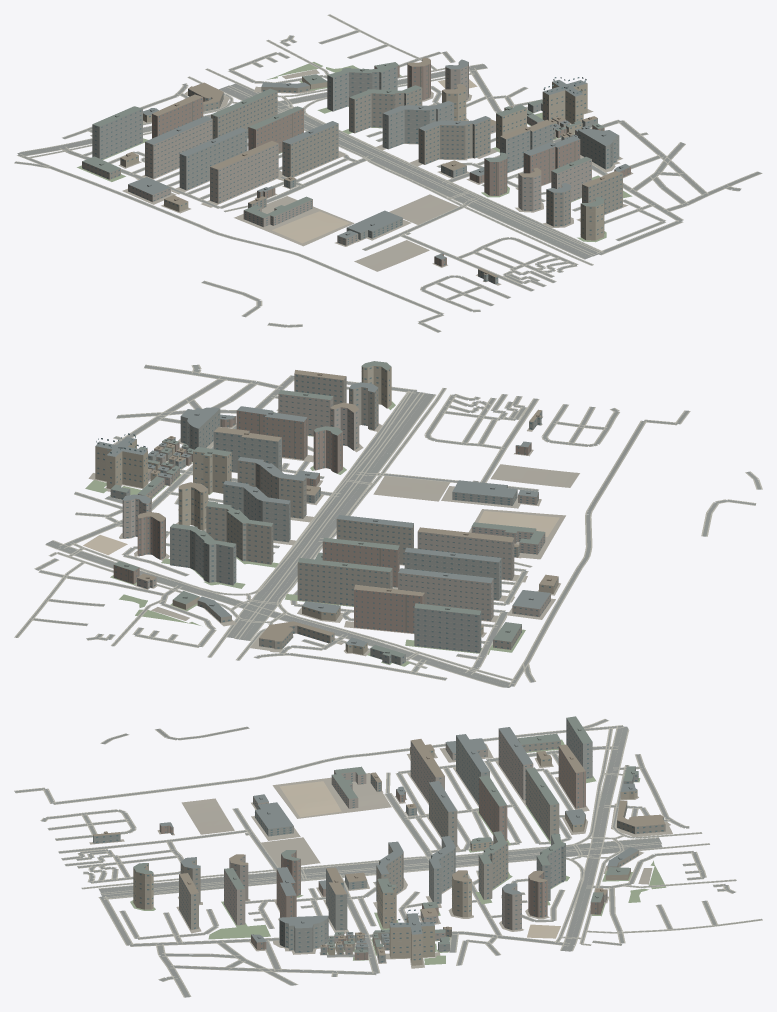
The picture shows the model from 3 angles, top to bottom: view 1: azimuth 30°, elevation 25°; view 2: azimuth 150°, elevation 25°; view 3: azimuth 270°, elevation 25°; orthographic projection. The views are drawn at different scales.
Parts seen in each view (by area): view 1: context-osm-buildings, context-osm-roads, context-osm-sidewalks, context-building-plinths; view 2: context-osm-buildings, context-osm-roads, context-osm-sidewalks, context-building-plinths; view 3: context-osm-buildings, context-osm-roads, context-osm-sidewalks, context-building-plinths.
Boxes of the visible parts, x1,y1,x2,y2 form: context-osm-buildings: (82, 57, 630, 284); context-osm-roads: (14, 14, 761, 332); context-osm-sidewalks: (14, 14, 762, 332); context-building-plinths: (77, 62, 633, 285); context-osm-buildings: (95, 361, 558, 665); context-osm-roads: (15, 364, 761, 687); context-osm-sidewalks: (14, 364, 762, 687); context-building-plinths: (83, 401, 579, 666); context-osm-buildings: (93, 716, 665, 965); context-osm-roads: (14, 719, 762, 997); context-osm-sidewalks: (14, 719, 762, 997); context-building-plinths: (89, 739, 672, 968).
Bounding box in the file's own units: 759 × 50.43 × 853.
